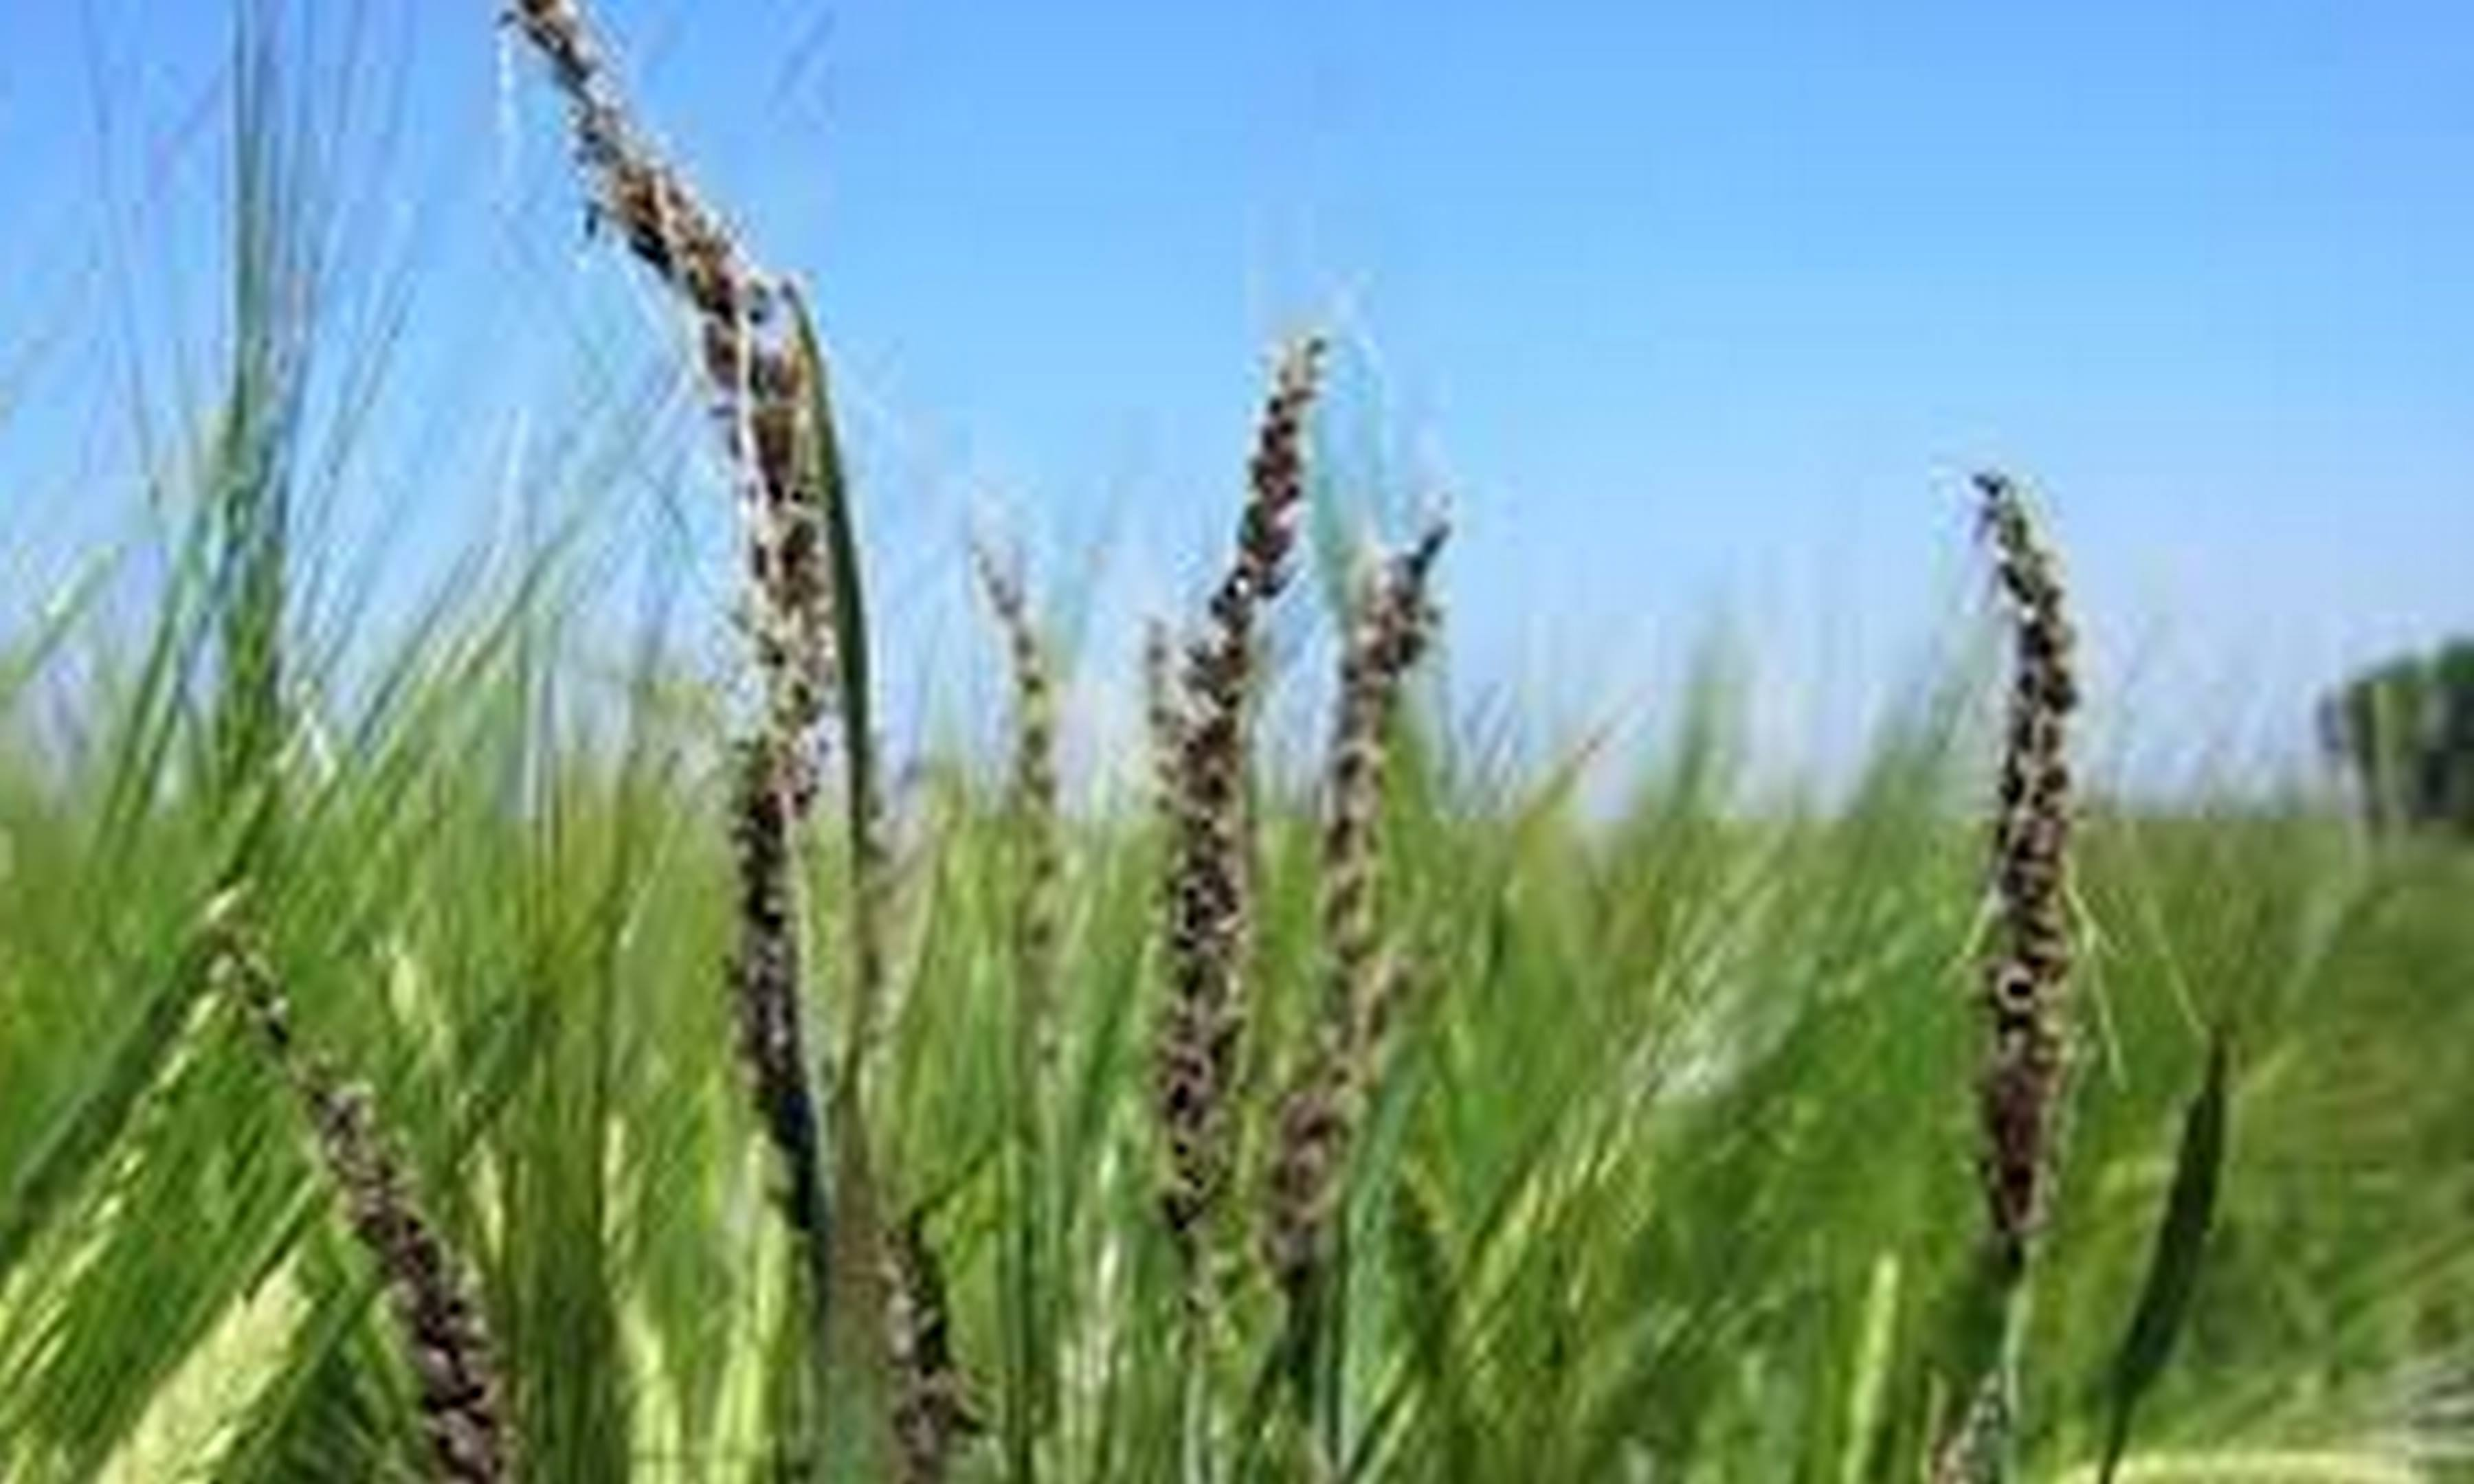Wheat Loose Smut: (1085, 343, 1463, 1212)
